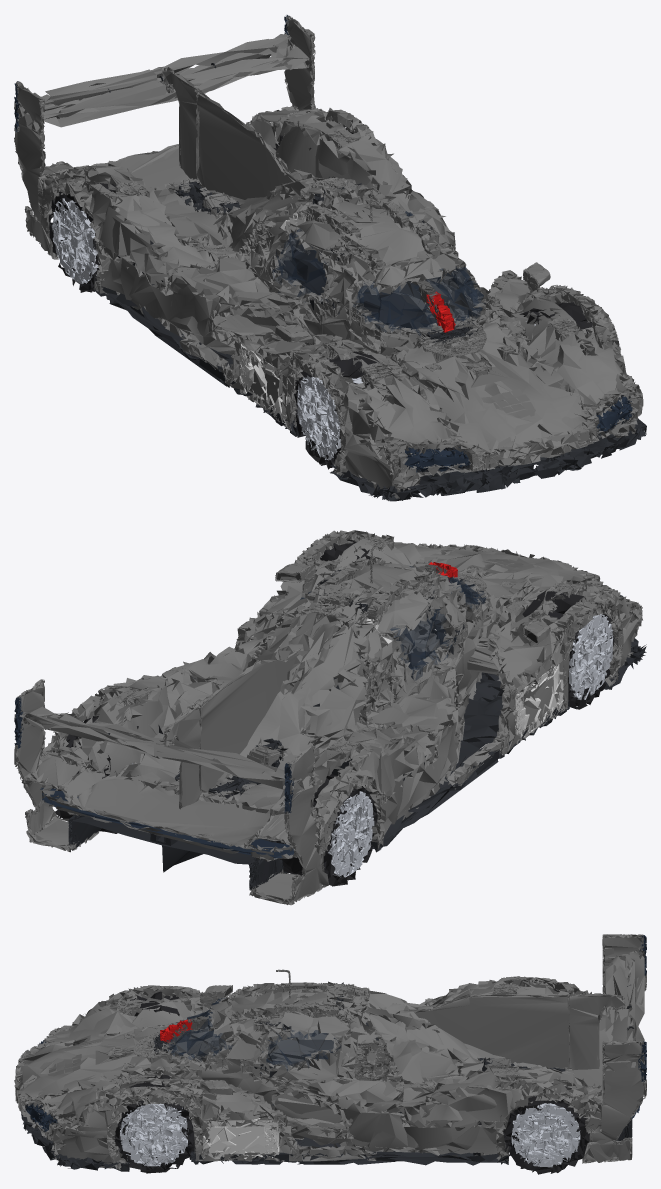
Rendered from porsche-963.obj.
3 views of the same model, one above another, from view 1: azimuth 30°, elevation 25°; view 2: azimuth 150°, elevation 25°; view 3: azimuth 270°, elevation 25° (orthographic). The views are drawn at different scales.
Visible parts, largest first — view 1: BODY, AERO_WING, GLASS, WHEEL_RF, WHEEL_RR; view 2: BODY, AERO_WING, GLASS, WHEEL_RR, WHEEL_RF; view 3: BODY, WHEEL_LR, WHEEL_LF, GLASS, AERO_WING, WHEEL_RF.
Boxes of the visible parts, bbox=[...] form: BODY: bbox=[14, 15, 643, 498]; AERO_WING: bbox=[15, 16, 646, 501]; GLASS: bbox=[14, 15, 632, 472]; WHEEL_RF: bbox=[294, 351, 379, 469]; WHEEL_RR: bbox=[49, 180, 151, 292]; BODY: bbox=[14, 530, 642, 905]; AERO_WING: bbox=[16, 618, 646, 852]; GLASS: bbox=[14, 566, 623, 858]; WHEEL_RR: bbox=[276, 774, 377, 886]; WHEEL_RF: bbox=[522, 591, 614, 709]; BODY: bbox=[14, 934, 646, 1169]; WHEEL_LR: bbox=[503, 1083, 589, 1174]; WHEEL_LF: bbox=[114, 1074, 194, 1173]; GLASS: bbox=[25, 935, 646, 1131]; AERO_WING: bbox=[21, 938, 643, 1171]; WHEEL_RF: bbox=[130, 991, 179, 1016].
Size of the model in its own units: 2.1 by 1.33 by 5.02.
